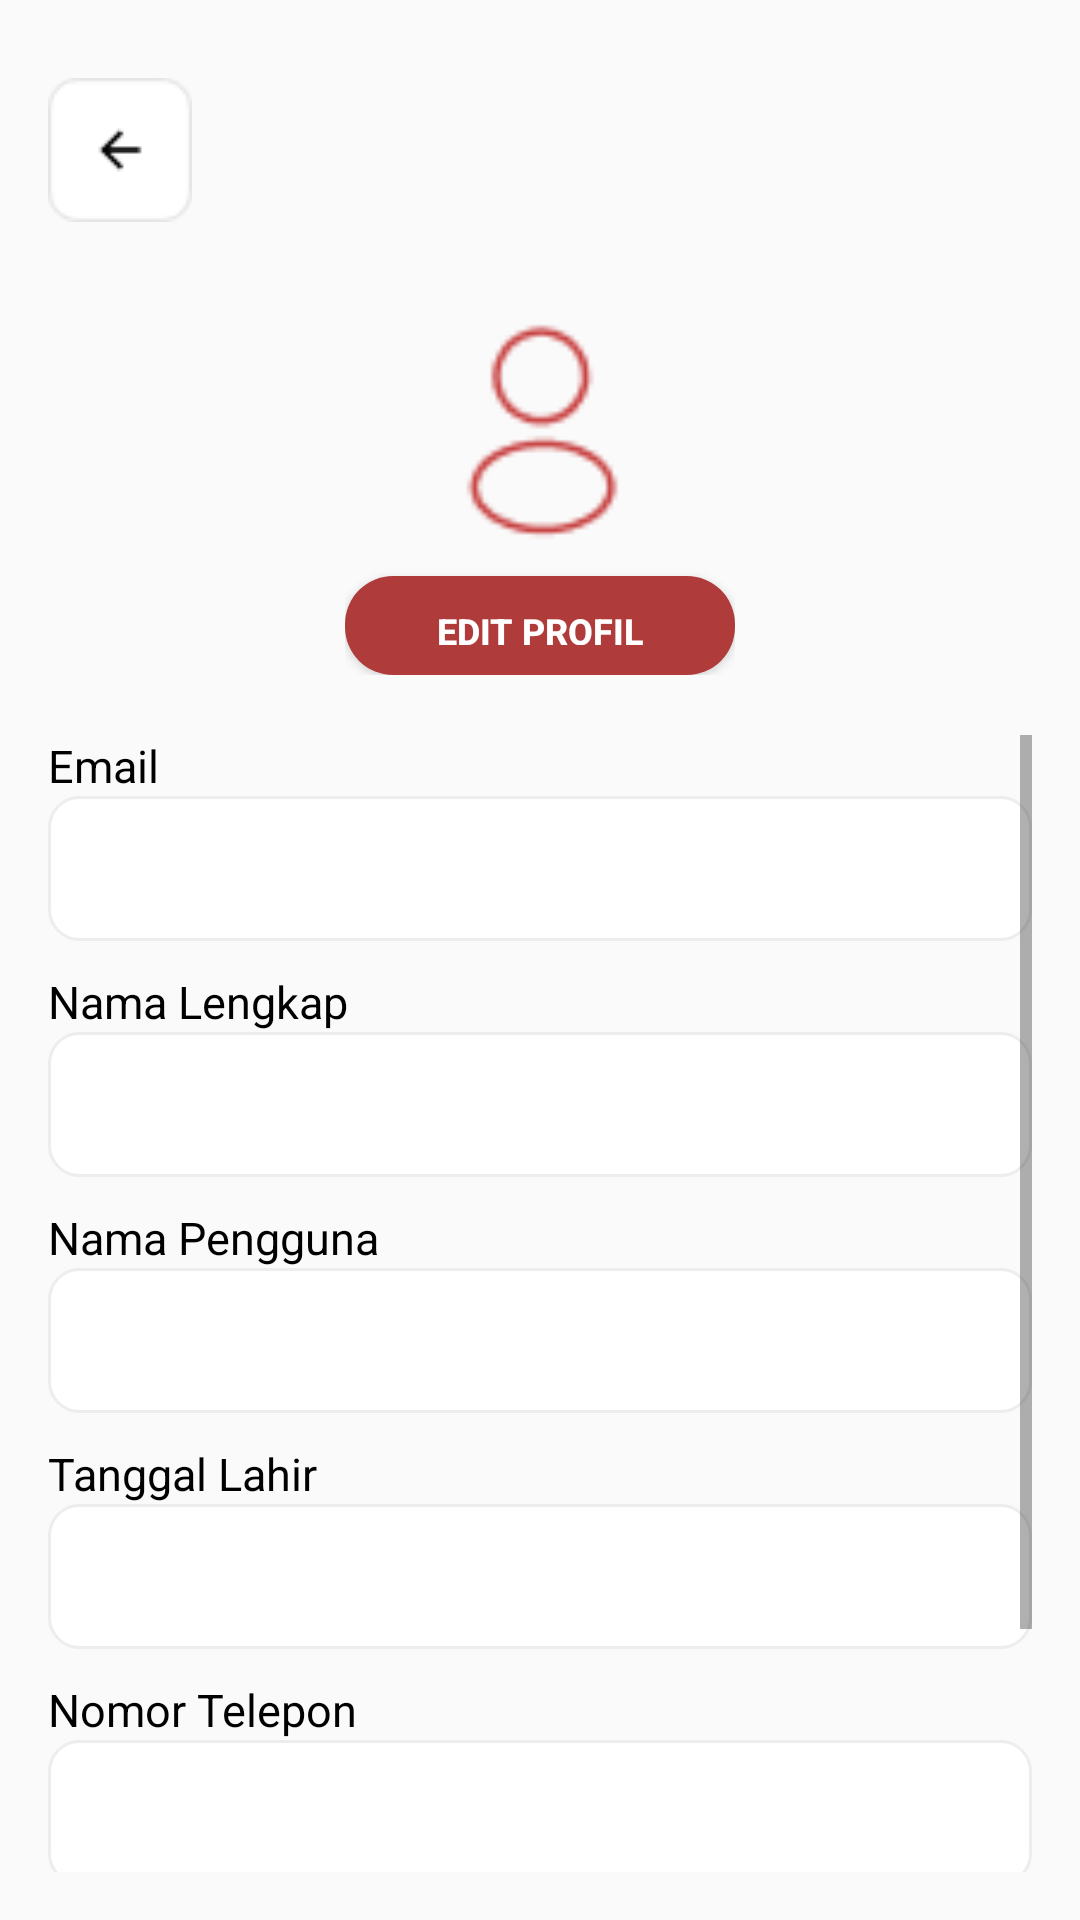

Icon bounding boxes for this 1080px x 1920px phone screenshot, format {"x1": x1, "y1": y1, "x2": x2, "y2": y2}:
Kembali: {"x1": 99, "y1": 129, "x2": 142, "y2": 171}
profile: {"x1": 467, "y1": 325, "x2": 618, "y2": 535}
